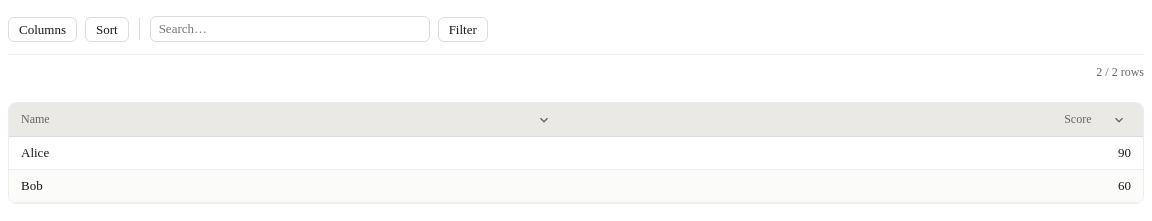
Test: DataTable — filter dropdown › marks the column with a clear button and an active-bar chip once a range filter is set
This screenshot has width=1152, height=221.
Click the button "Filter" at coordinates (463, 29), box [438, 16, 488, 42]
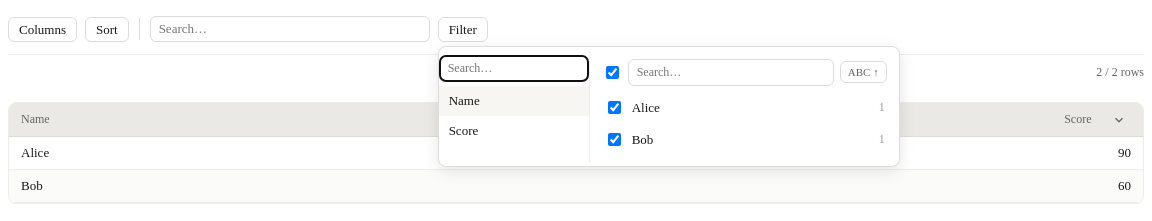
Click the 2nd button "Score" at coordinates (514, 130), box [439, 116, 589, 146]
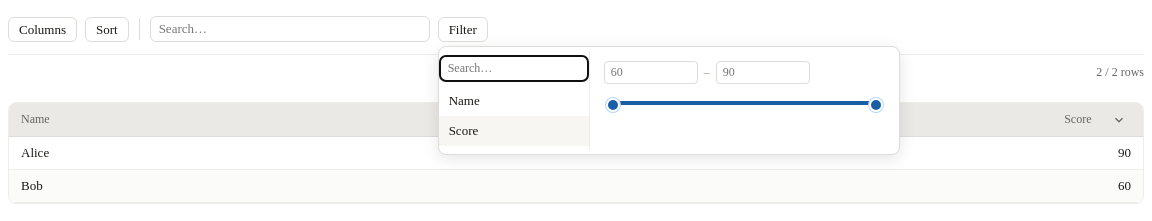
Type "80" into the number field named " Min" at coordinates (651, 72), box [604, 60, 698, 84]
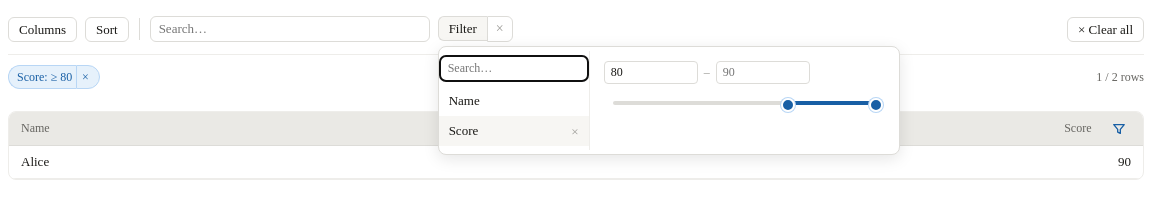
Result: the element showing "Score: ≥ 80 ×" is shown at [8, 65, 100, 89]
